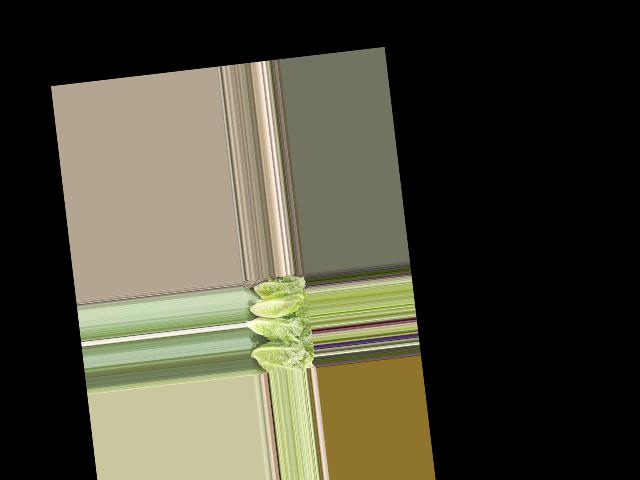lettuce: (254, 277, 306, 298)
